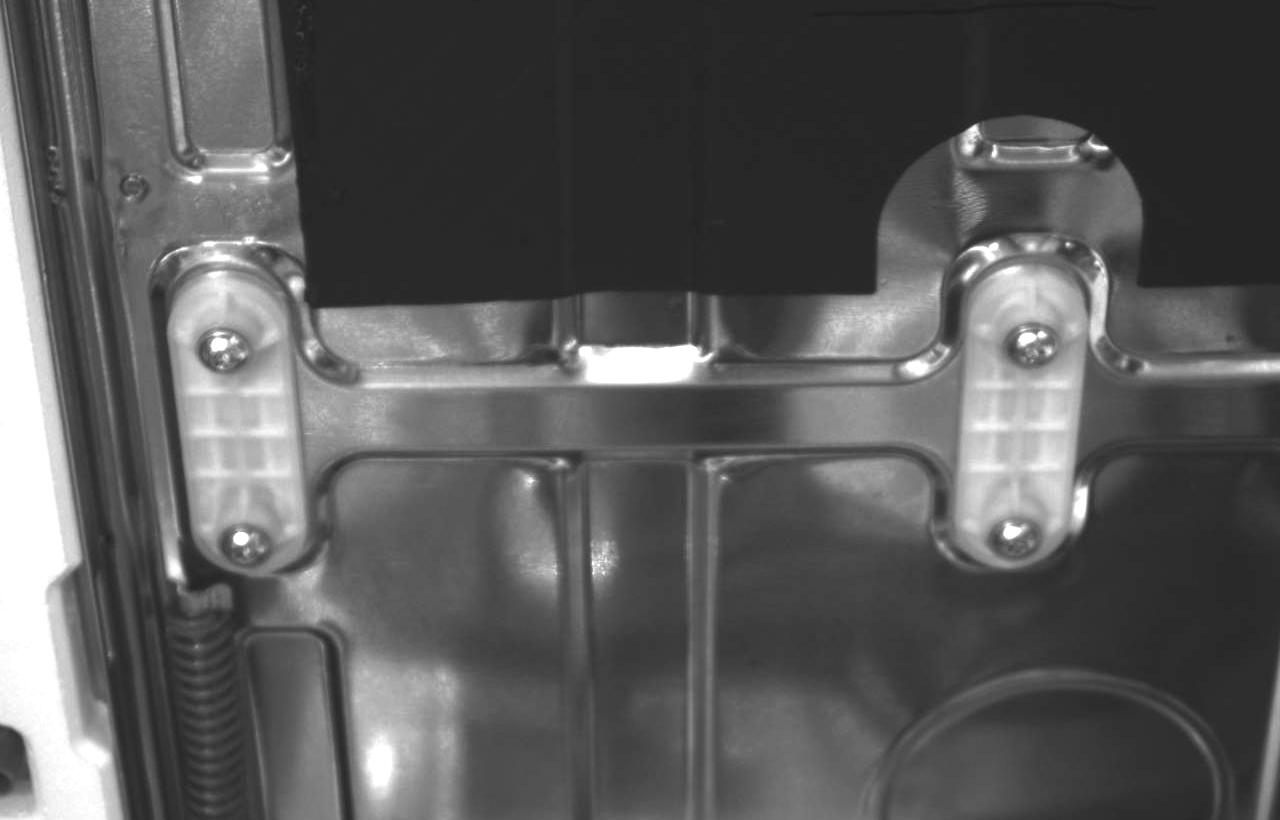vida-ok: (184, 307, 271, 385), (991, 304, 1079, 377), (208, 507, 289, 572), (977, 505, 1052, 563)
